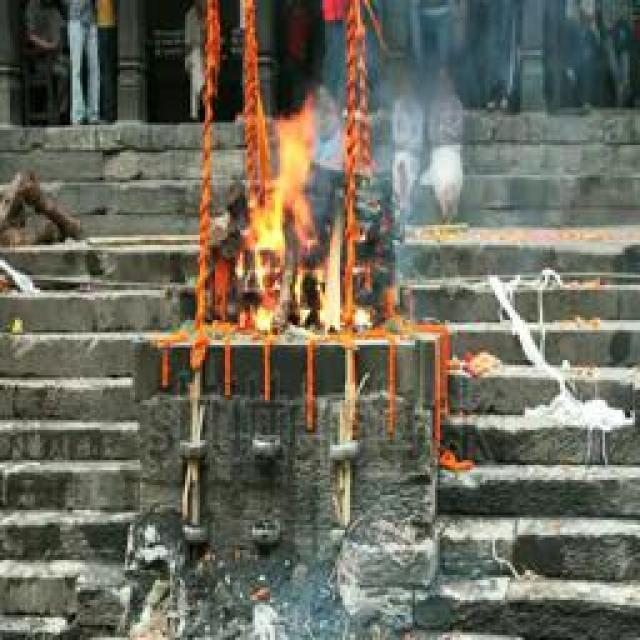Fire: (252, 94, 350, 332)
